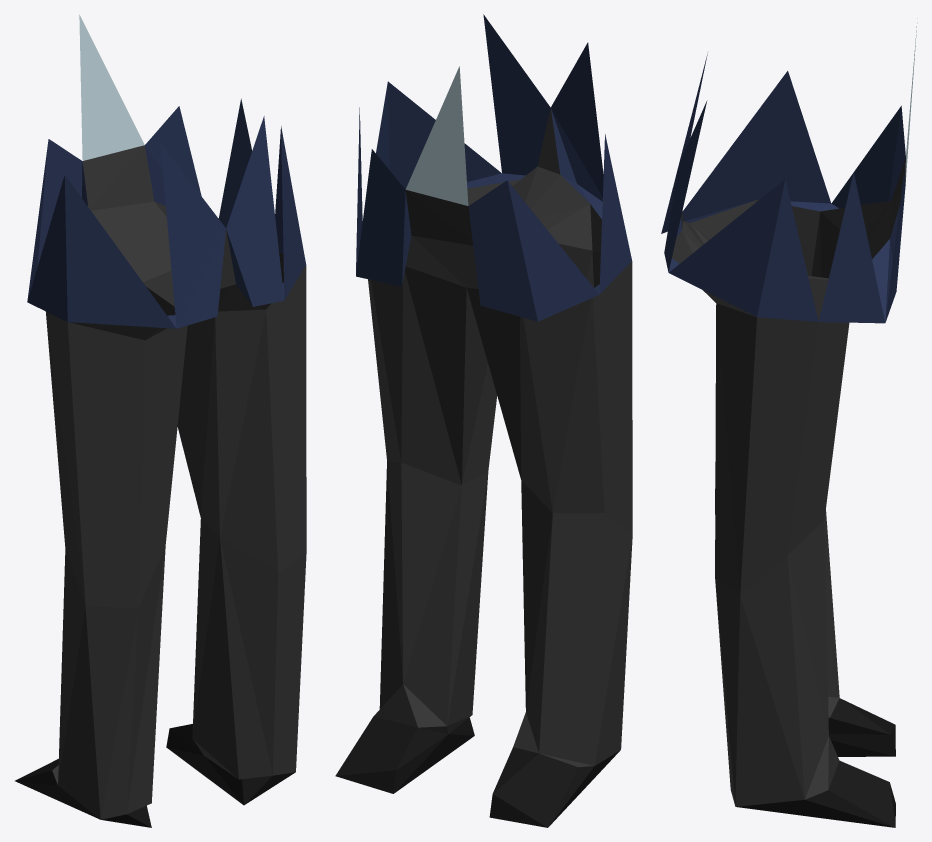
File: Legs_Lo.obj
3 renders of one model, left to right at view 1: azimuth 30°, elevation 25°; view 2: azimuth 150°, elevation 25°; view 3: azimuth 270°, elevation 25°, orthographic.
Size of the model in its own units: 0.3902 by 1.15 by 0.3545.
1 material, 1 textured.
